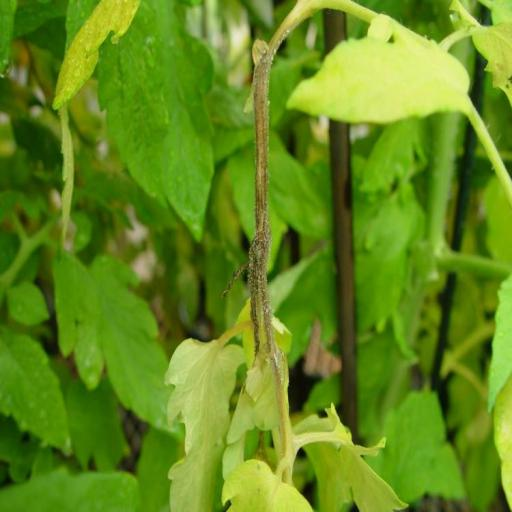Healthy: (98, 0, 219, 243), (53, 248, 175, 438)
Leaf Mold: (285, 34, 472, 126), (161, 335, 247, 512)
